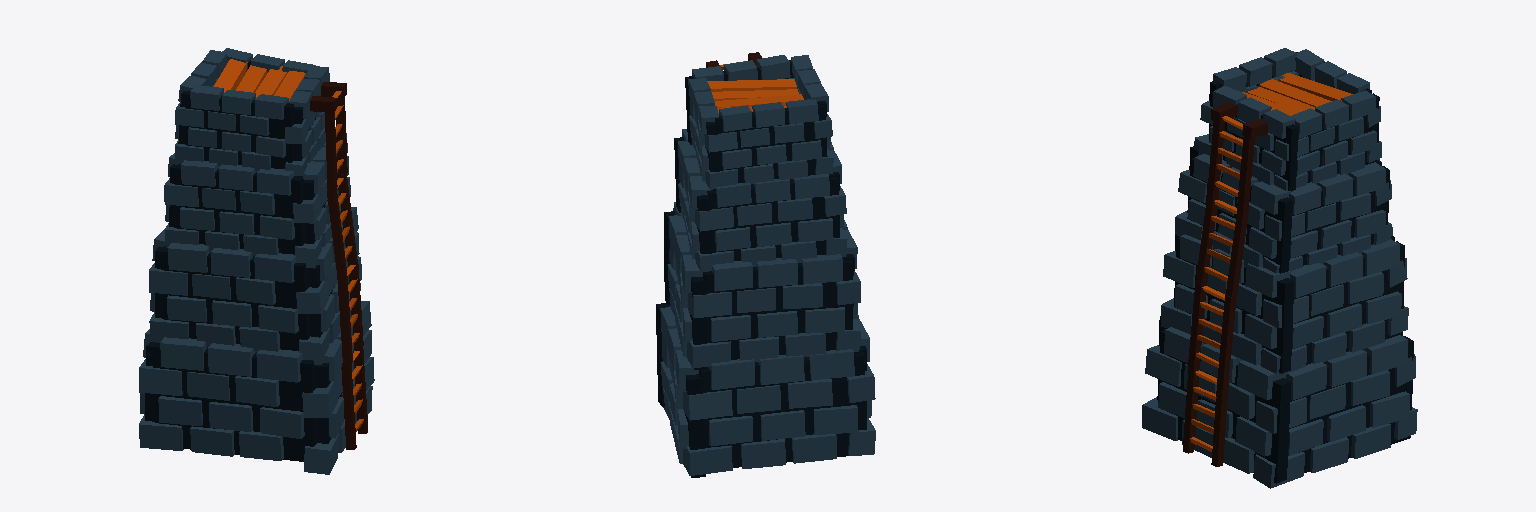
3 renders of one model, left to right at view 1: azimuth 30°, elevation 25°; view 2: azimuth 150°, elevation 25°; view 3: azimuth 270°, elevation 25°, orthographic.
Parts seen in each view (by area): view 1: group[number redacted], group[number redacted], group[number redacted], group[number redacted], group[number redacted], group[number redacted], group[number redacted], group[number redacted], group[number redacted]; view 2: group[number redacted], group[number redacted], group[number redacted], group[number redacted], group[number redacted], group[number redacted], group[number redacted]; view 3: group[number redacted], group[number redacted], group[number redacted], group[number redacted], group[number redacted], group[number redacted], group[number redacted], group[number redacted], group[number redacted], group[number redacted], group[number redacted].
Boxes of the visible parts, box(x1,y1,x2,y2) form: group[number redacted]: box(139, 301, 374, 474); group[number redacted]: box(149, 207, 361, 364); group[number redacted]: box(164, 133, 350, 268); group[number redacted]: box(175, 48, 329, 175); group[number redacted]: box(341, 348, 367, 449); group[number redacted]: box(327, 173, 356, 276); group[number redacted]: box(337, 259, 363, 363); group[number redacted]: box(325, 91, 347, 189); group[number redacted]: box(214, 59, 247, 92); group[number redacted]: box(656, 303, 875, 477); group[number redacted]: box(664, 202, 860, 369); group[number redacted]: box(685, 55, 833, 190); group[number redacted]: box(674, 129, 847, 272); group[number redacted]: box(707, 79, 796, 91); group[number redacted]: box(712, 89, 798, 100); group[number redacted]: box(715, 94, 803, 107); group[number redacted]: box(1142, 316, 1417, 488); group[number redacted]: box(1161, 227, 1408, 377); group[number redacted]: box(1175, 134, 1391, 273); group[number redacted]: box(1199, 48, 1381, 191); group[number redacted]: box(1196, 195, 1248, 296); group[number redacted]: box(1188, 281, 1236, 382); group[number redacted]: box(1183, 367, 1228, 466); group[number redacted]: box(1207, 116, 1254, 211); group[number redacted]: box(1279, 73, 1352, 102); group[number redacted]: box(1259, 79, 1331, 106); group[number redacted]: box(1247, 87, 1314, 111).
Bounding box in the file's own units: 0.4429 × 0.6706 × 0.4682.